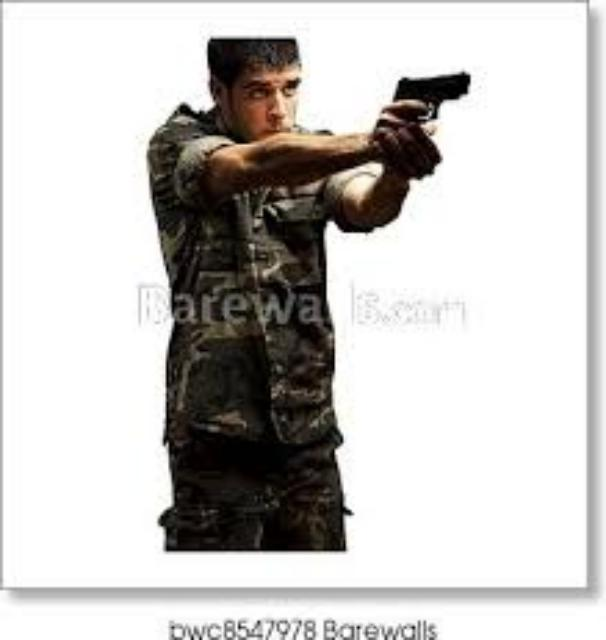other: (149, 26, 348, 548)
